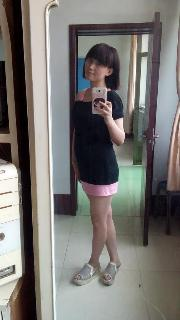short sleeve dress: (71, 87, 124, 196)
